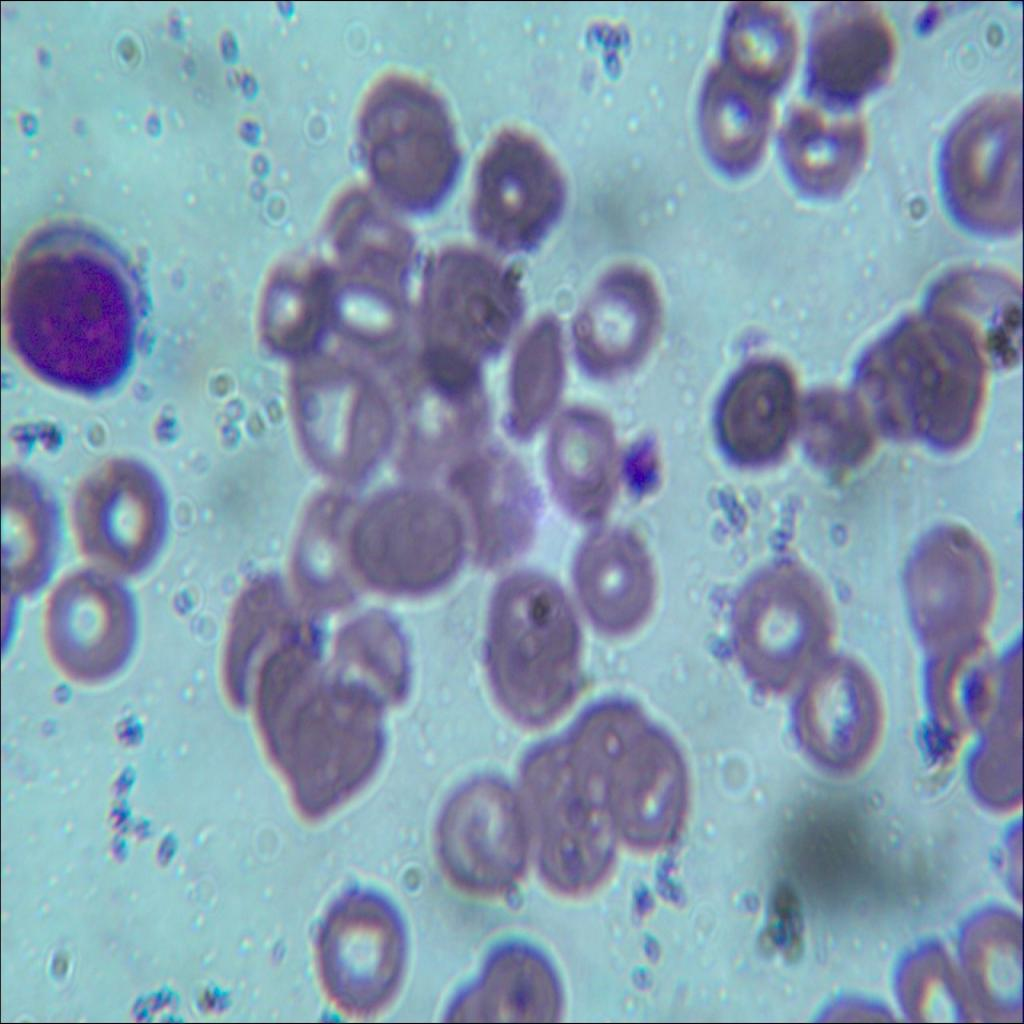Eritrosit: (486, 571, 586, 721), (216, 564, 323, 702), (358, 76, 463, 212), (724, 551, 826, 688), (312, 882, 410, 1016), (466, 128, 574, 247), (418, 242, 521, 365), (386, 354, 490, 475), (686, 52, 774, 194), (938, 92, 1023, 238), (291, 688, 382, 822), (568, 261, 666, 381), (898, 514, 991, 638), (793, 642, 879, 771), (289, 488, 368, 622), (46, 564, 138, 678), (75, 456, 168, 568), (804, 4, 898, 112), (781, 97, 870, 211), (255, 642, 341, 759), (333, 602, 421, 714), (296, 366, 395, 465), (606, 732, 688, 849), (442, 778, 528, 888), (396, 481, 478, 595), (575, 529, 656, 642), (450, 452, 532, 562), (518, 732, 590, 855), (926, 624, 1002, 734), (498, 319, 572, 429), (955, 904, 1023, 1023), (328, 262, 409, 358), (570, 697, 646, 798), (0, 467, 56, 602), (348, 484, 418, 592), (253, 252, 331, 348), (546, 414, 620, 511), (891, 934, 971, 1023), (540, 796, 610, 895), (720, 0, 794, 91)
Limfoblast: (0, 216, 143, 396)
Platelet: (622, 434, 663, 497), (28, 37, 64, 76), (910, 2, 941, 41), (68, 108, 94, 147)
